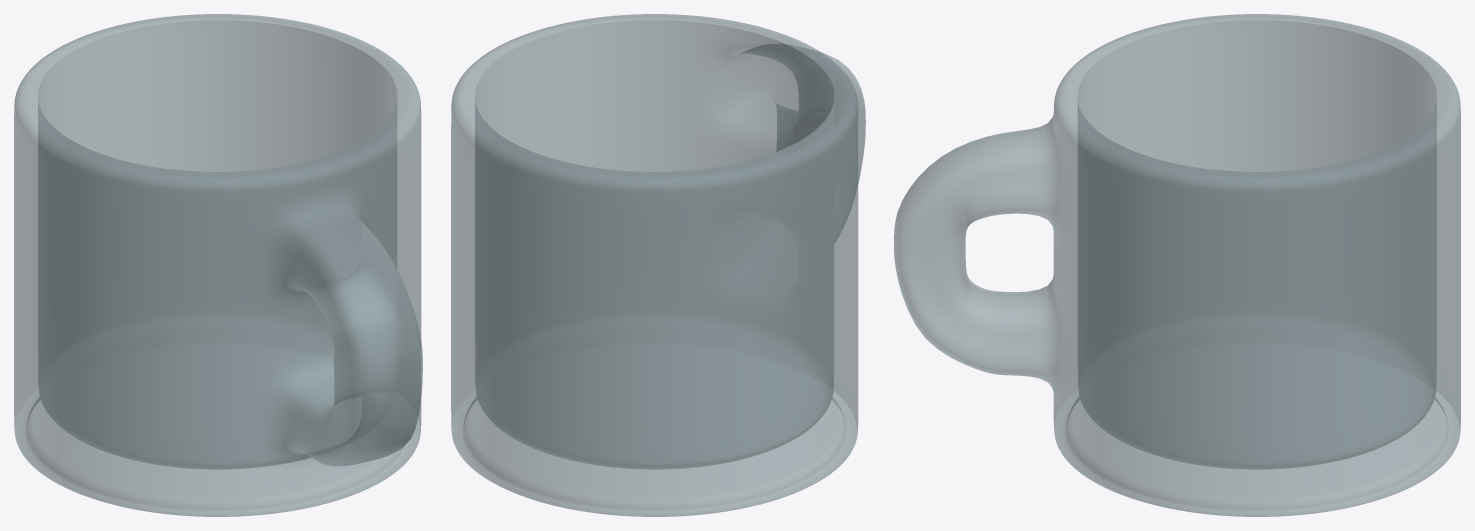
The model's file is Mug.obj.
3 renders of one model, left to right at view 1: azimuth 30°, elevation 25°; view 2: azimuth 150°, elevation 25°; view 3: azimuth 270°, elevation 25°, orthographic.
Visible parts, largest first — view 1: Círculo; view 2: Círculo; view 3: Círculo.
Part boxes in pixels (x1,y1,x2,y2): Círculo: (14, 14, 422, 516); Círculo: (451, 14, 865, 516); Círculo: (894, 14, 1460, 516).
Size of the model in its own units: 1.99 by 1.81 by 2.77.
Materials: 1 (1 with a texture image).
